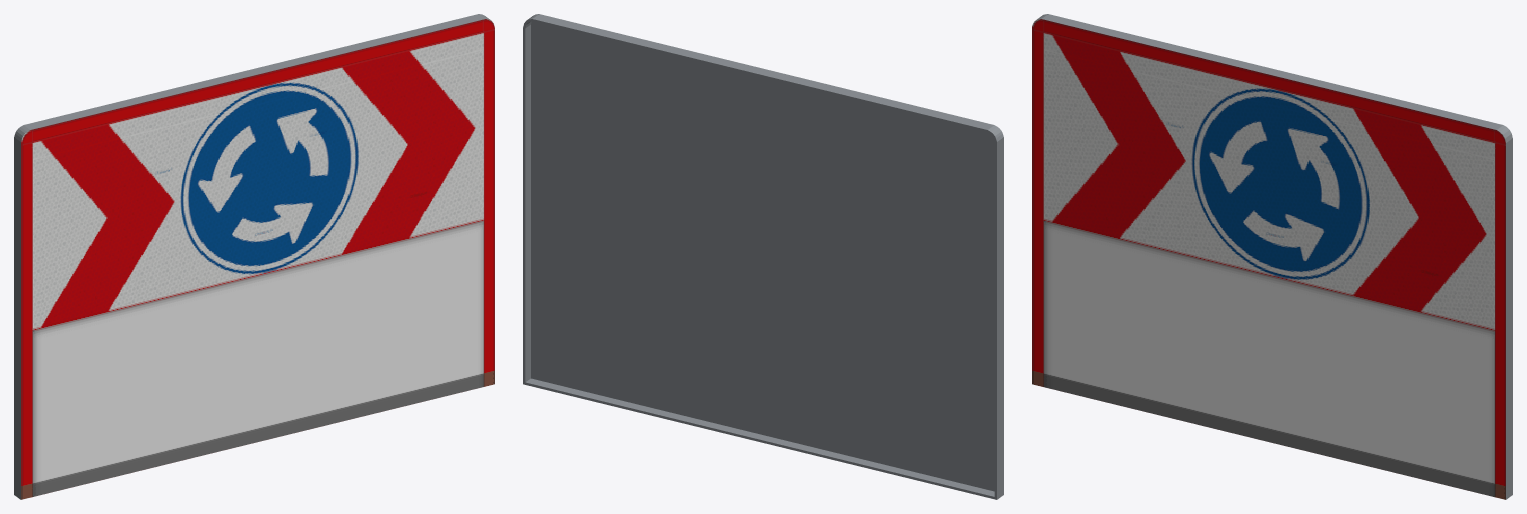
The picture shows the model from 3 angles, left to right: view 1: azimuth 30°, elevation 25°; view 2: azimuth 150°, elevation 25°; view 3: azimuth 330°, elevation 25°; orthographic projection.
Parts seen in each view (by area): view 1: cat_c7c58b74c23be083; view 2: cat_c7c58b74c23be083; view 3: cat_c7c58b74c23be083.
Part boxes in pixels (x1,y1,x2,y2): cat_c7c58b74c23be083: (14,14,494,499); cat_c7c58b74c23be083: (523,14,1003,499); cat_c7c58b74c23be083: (1032,14,1512,499).
Size of the model in its own units: 0.6 by 0.015 by 0.4447.
2 materials, 1 textured.
